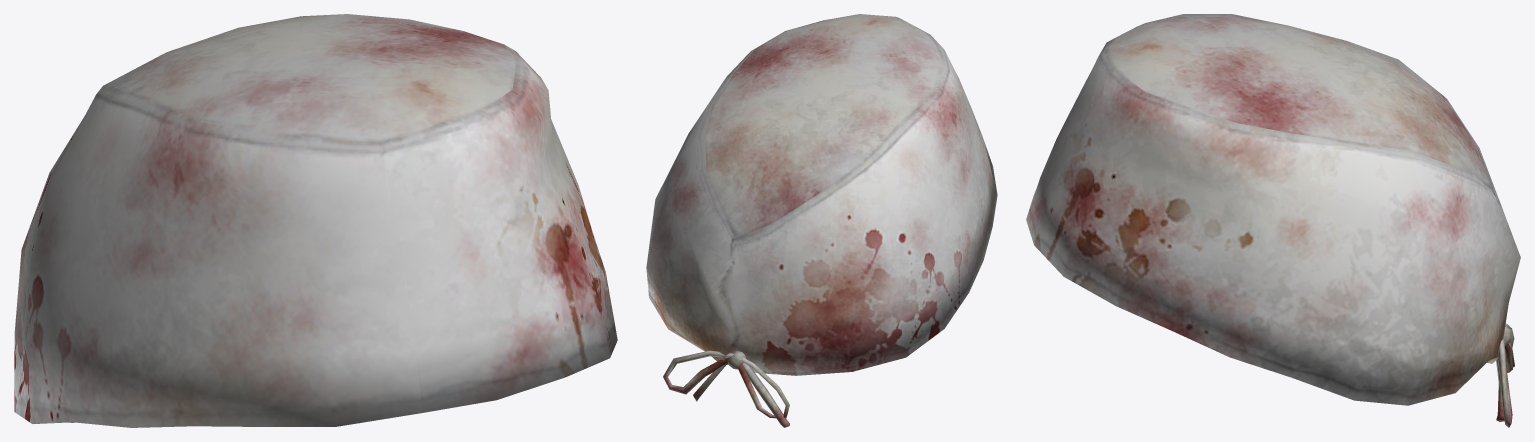
File: SurvivorMale_Head_Hat_ScrubsCap_LOD0.glb
3 views of the same model, side by side, from view 1: azimuth 30°, elevation 25°; view 2: azimuth 150°, elevation 25°; view 3: azimuth 270°, elevation 25° (orthographic). The views are drawn at different scales.
Parts seen in each view (by area): view 1: Hoodie; view 2: Hoodie; view 3: Hoodie.
Part boxes in pixels (<box>): Hoodie: <box>14,14,617,427</box>; Hoodie: <box>646,14,997,427</box>; Hoodie: <box>1026,14,1520,427</box>.
Bounding box in the file's own units: 0.1816 × 0.1728 × 0.2176.
Materials: 1 (1 with a texture image).
